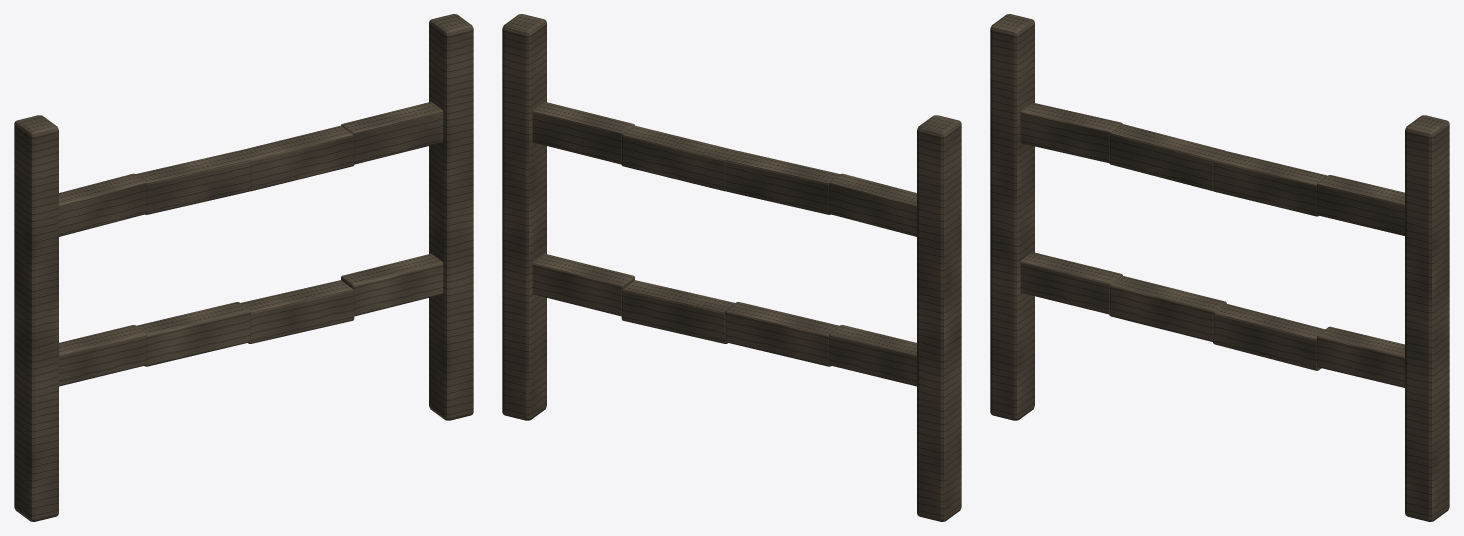
File: FencePanel.fbx
3 renders of one model, left to right at view 1: azimuth 30°, elevation 25°; view 2: azimuth 150°, elevation 25°; view 3: azimuth 330°, elevation 25°, orthographic.
Visible parts, largest first — view 1: FencePanel; view 2: FencePanel; view 3: FencePanel.
Part boxes in pixels (bbox=[...]): FencePanel: bbox=[14, 14, 473, 521]; FencePanel: bbox=[502, 14, 961, 521]; FencePanel: bbox=[990, 14, 1449, 521].
Size of the model in its own units: 214 by 180 by 16.
